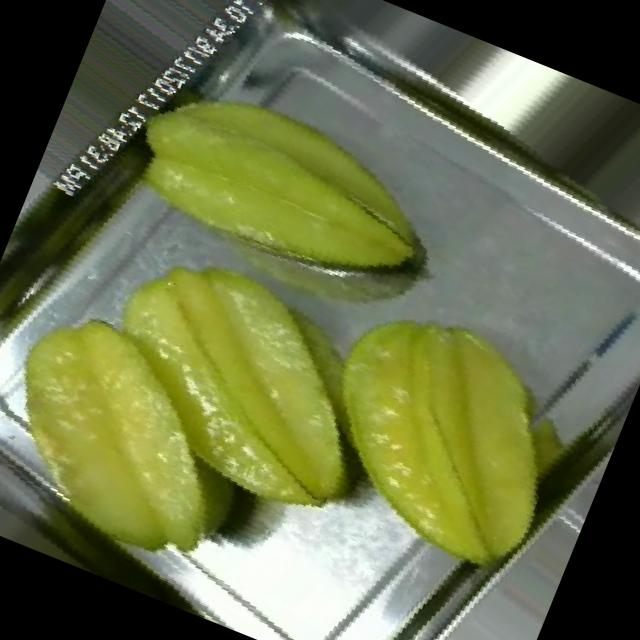fruit: (0, 203, 418, 640), (240, 233, 640, 623), (71, 24, 484, 388)
